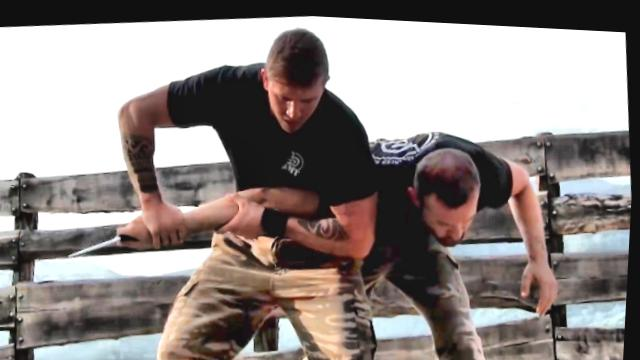knife: (60, 206, 145, 262)
